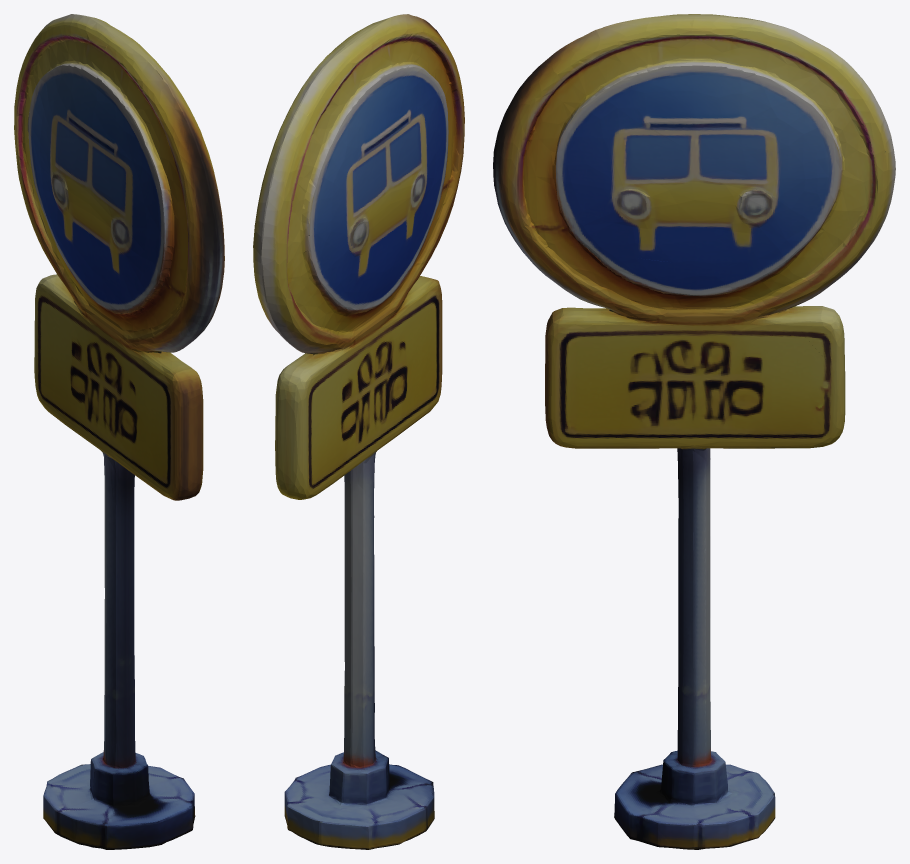
File: bus_stop.glb
3 renders of one model, left to right at view 1: azimuth 30°, elevation 25°; view 2: azimuth 150°, elevation 25°; view 3: azimuth 270°, elevation 25°, orthographic. The views are drawn at different scales.
Parts seen in each view (by area): view 1: world; view 2: world; view 3: world.
Part boxes in pixels (left/top/right/bottom): world: left=14, top=14, right=224, bottom=849; world: left=253, top=14, right=464, bottom=849; world: left=493, top=14, right=895, bottom=849.
Size of the model in its own units: 0.1745 by 1 by 0.4557.
Materials: 1 (1 with a texture image).
